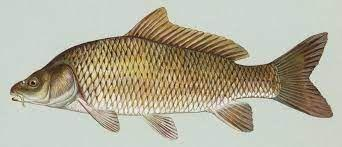Grass Carp: (11, 3, 331, 141)
